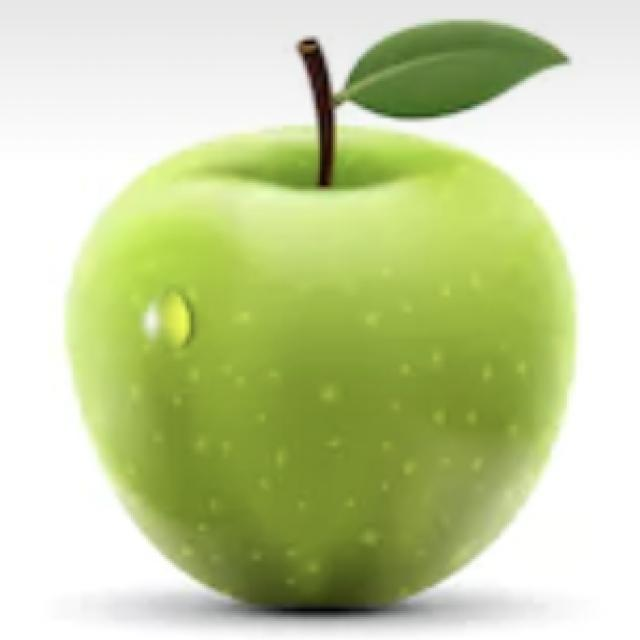Fresh Apple: (69, 110, 584, 613)
